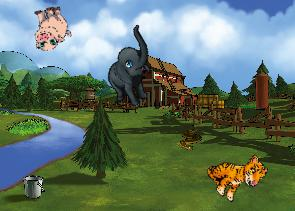elephant: (90, 24, 173, 112)
pig: (26, 3, 73, 52)
tiger: (201, 139, 271, 208)
